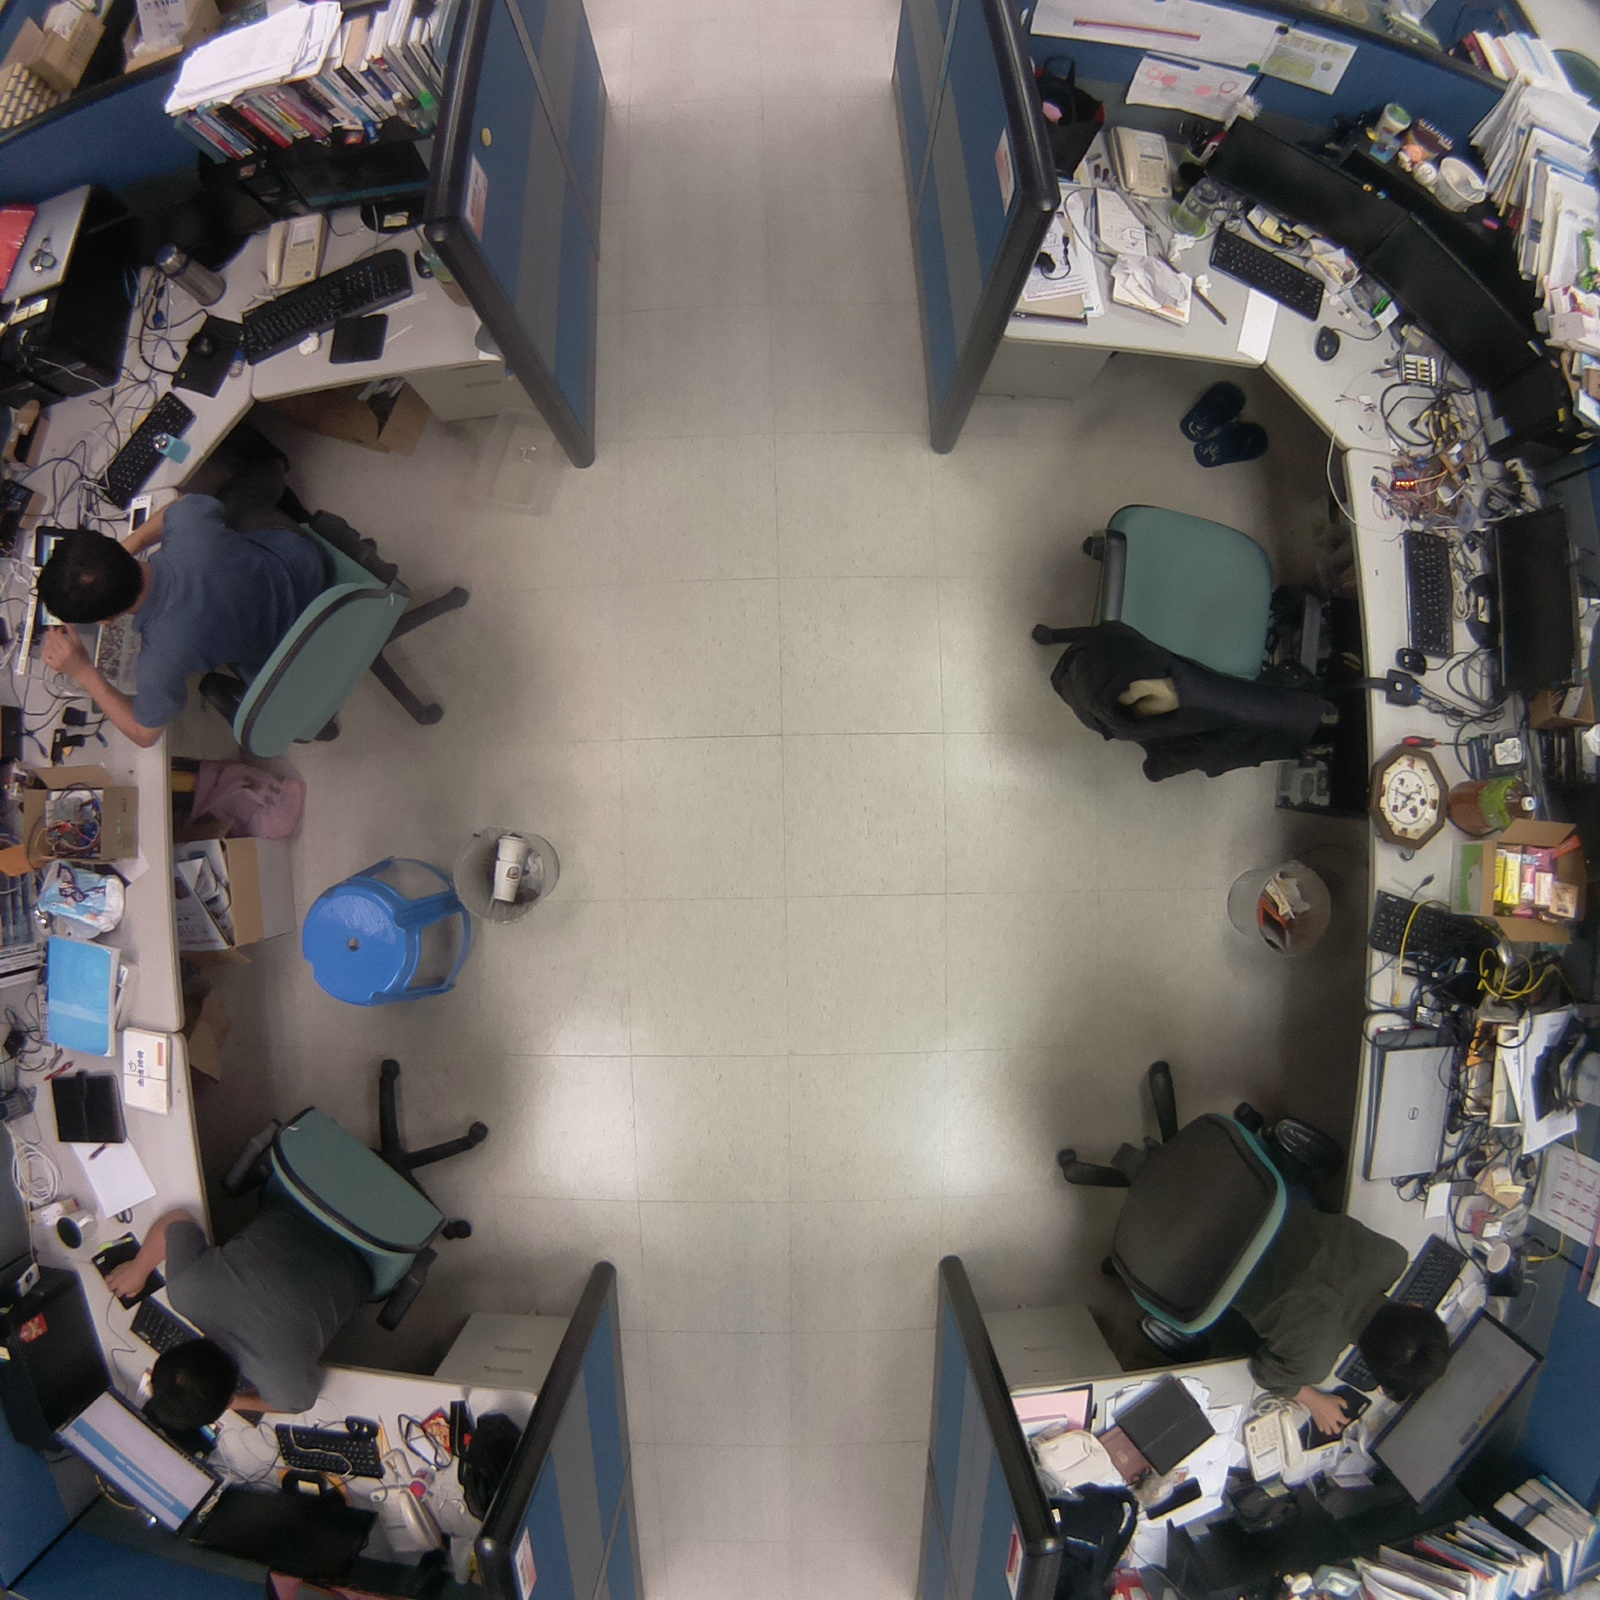chair: (1027, 473, 1345, 799)
head: (27, 522, 148, 631), (1341, 1294, 1460, 1404), (139, 1335, 248, 1437)
sitting: (98, 1042, 512, 1447), (1042, 1034, 1461, 1434), (26, 450, 501, 775)
